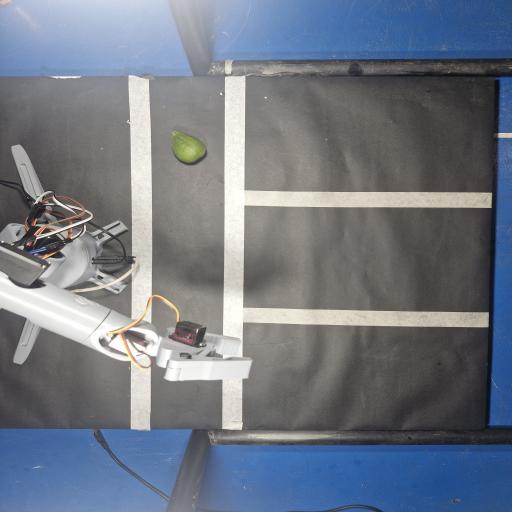higo: (172, 131, 206, 163)
